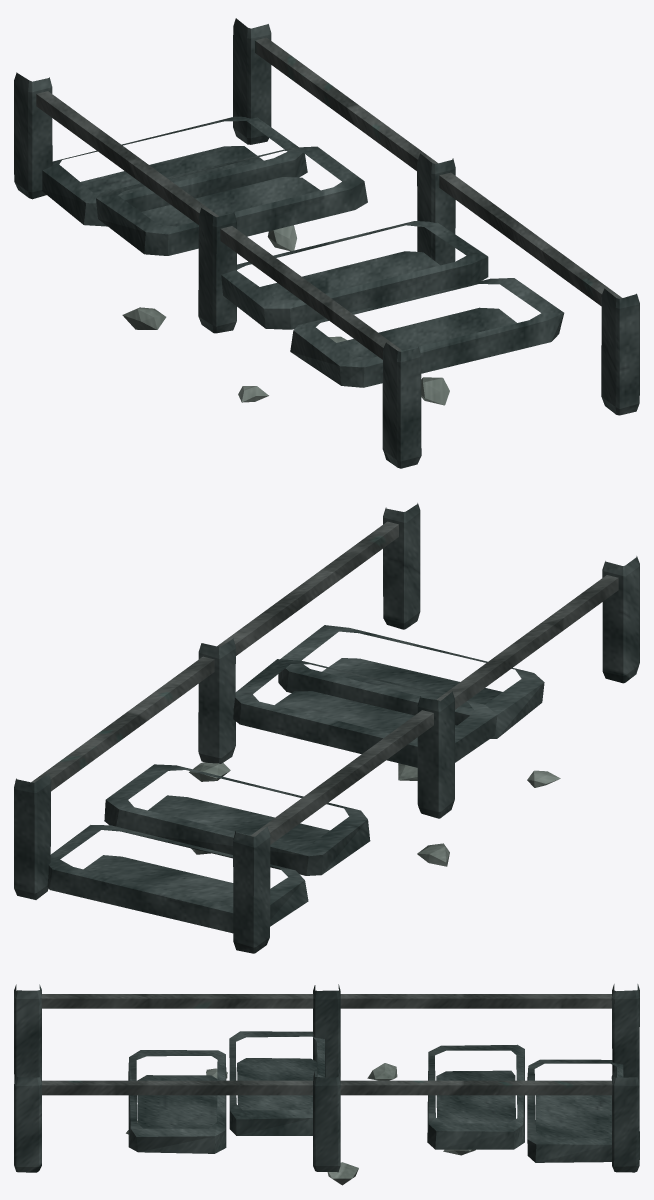
File: 0398_ruined_bridge_23.glb
3 views of the same model, one above another, from view 1: azimuth 30°, elevation 25°; view 2: azimuth 150°, elevation 25°; view 3: azimuth 270°, elevation 25° (orthographic). The views are drawn at different scales.
Parts seen in each view (by area): view 1: stone_dark, iron, stone; view 2: stone_dark, iron, stone; view 3: stone_dark, iron, stone.
Boxes of the visible parts, x1,y1,x2,y2 form: stone_dark: (14, 18, 639, 468); iron: (36, 37, 622, 359); stone: (122, 225, 449, 405); stone_dark: (14, 503, 639, 953); iron: (31, 521, 618, 844); stone: (189, 762, 560, 866); stone_dark: (14, 984, 639, 1172); iron: (41, 994, 612, 1095); stone: (126, 1063, 475, 1185).
Bounding box in the file's own units: 2.41 × 1.1 × 5.67.
3 materials, 3 textured.
